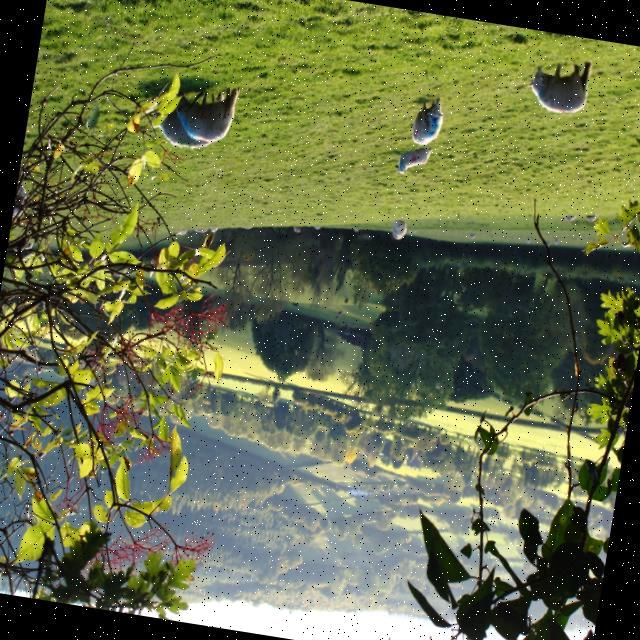sheep: (154, 96, 218, 150), (176, 88, 239, 141), (529, 65, 589, 114), (411, 99, 442, 146), (397, 149, 432, 174)
